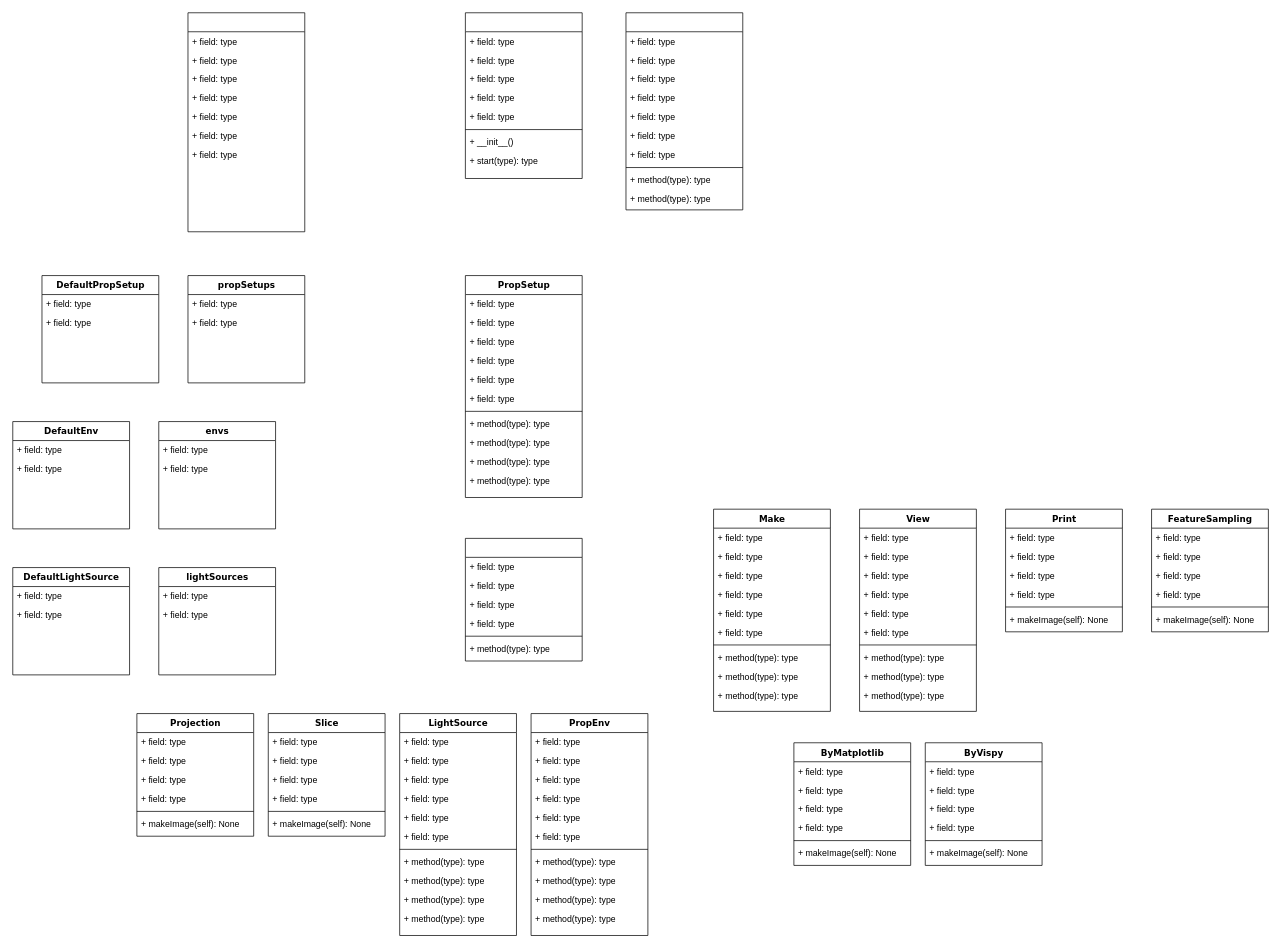
Image size: 1281x948. Some labels were removed from this diagram. Here are the shapes that lost their labels. From the top down, the box of each, then its label:
(465, 12, 582, 178): Sim
(625, 12, 743, 210): Test
(187, 12, 305, 232): config.json
(465, 538, 582, 661): Object3D
